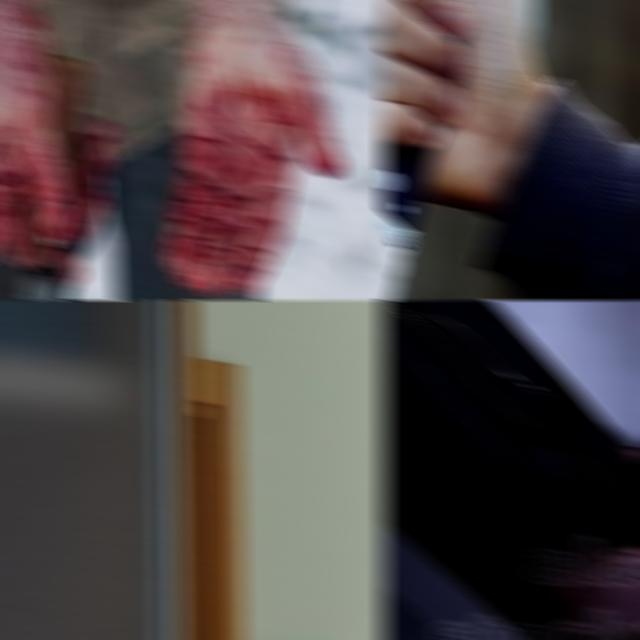Knife: (380, 147, 435, 300), (17, 212, 66, 300)
Knife_Handle: (380, 0, 558, 300), (0, 16, 135, 300), (520, 341, 640, 640)
